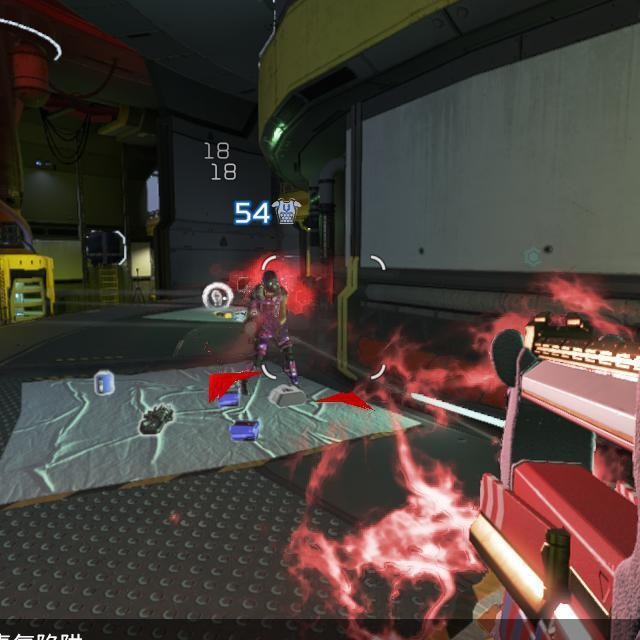avatar: (240, 267, 301, 395)
